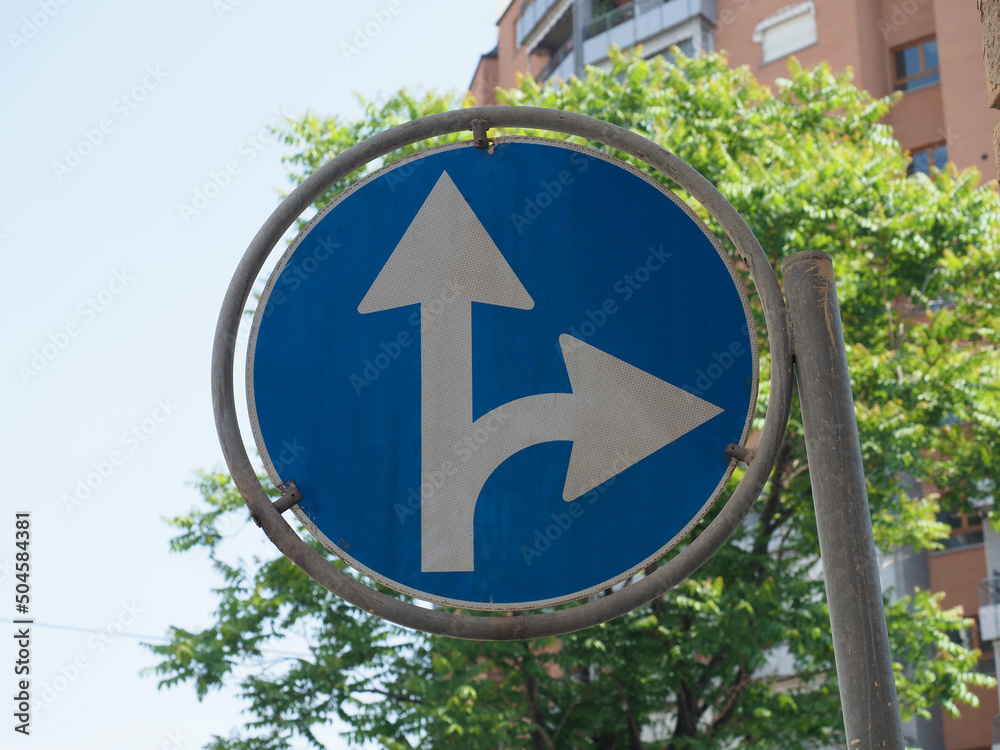ileri_veya_saga: (244, 135, 762, 612)
